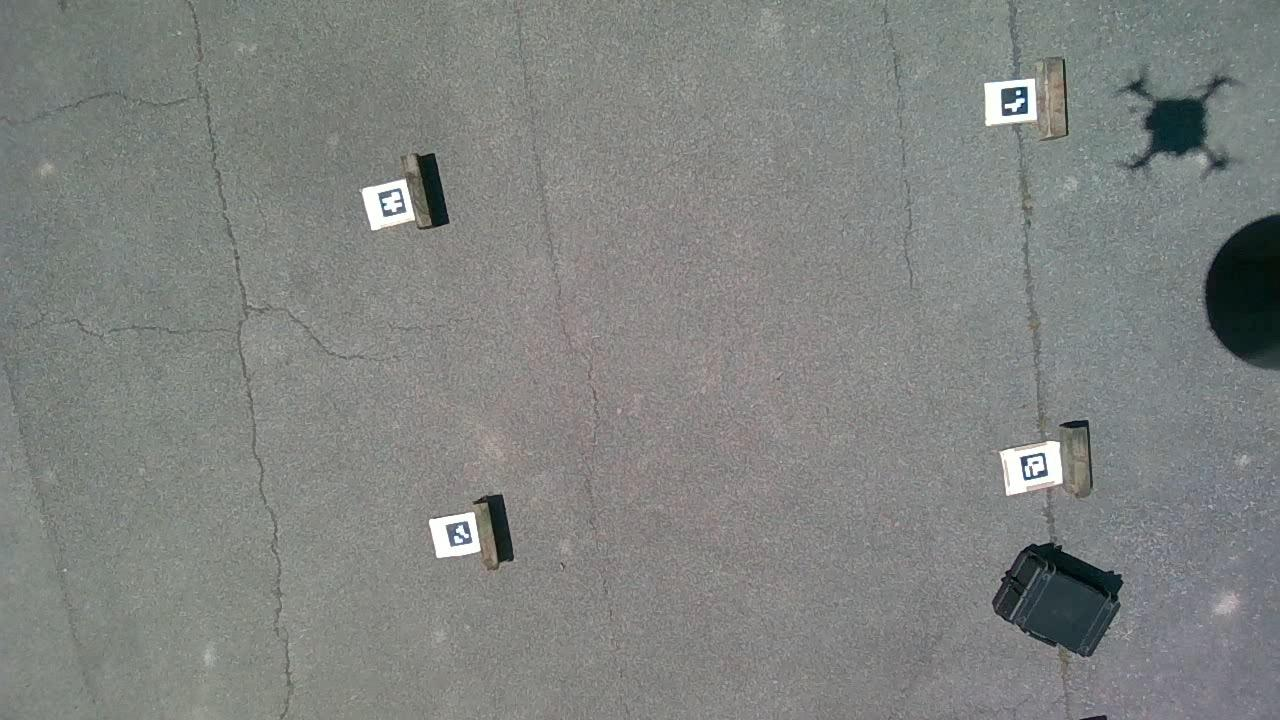rako: (992, 547, 1123, 659)
